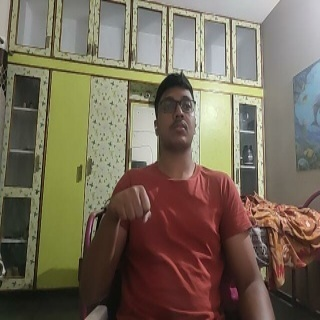Face: (153, 72, 197, 151)
Yes: (107, 181, 154, 230)
